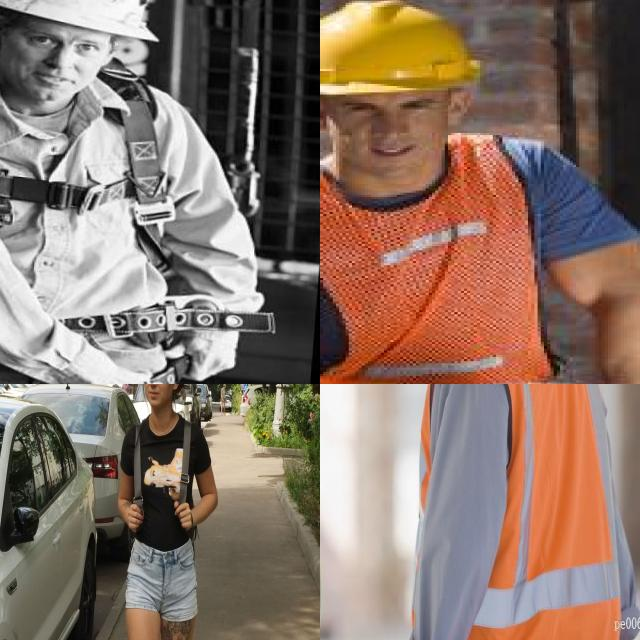Harness: (0, 64, 176, 226)
No_Ear-Protection: (447, 91, 471, 127), (320, 93, 330, 128)
No_Glasses: (336, 94, 444, 116)
face_nomask: (330, 125, 446, 178)
head_helmet: (320, 0, 491, 99)
person: (384, 384, 640, 640)
vest: (431, 384, 618, 639)
